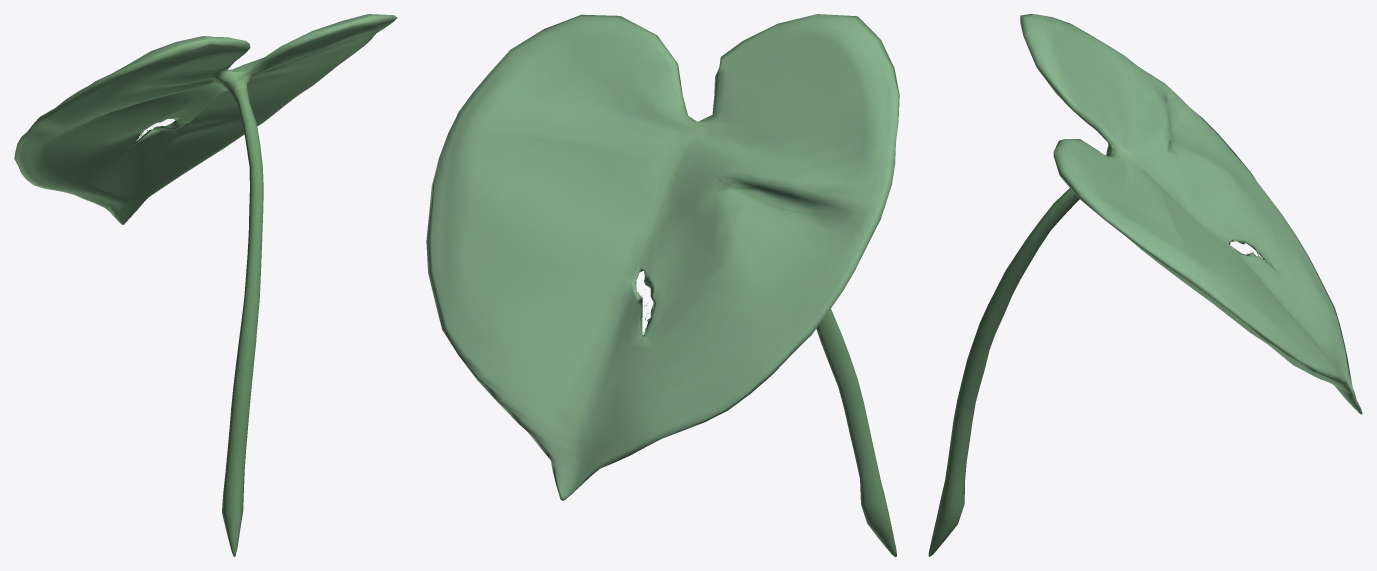
Rendered from test_albo_A_mid1.glb.
3 views of the same model, side by side, from view 1: azimuth 30°, elevation 25°; view 2: azimuth 150°, elevation 25°; view 3: azimuth 270°, elevation 25° (orthographic). The views are drawn at different scales.
Size of the model in its own units: 1.51 by 2 by 1.47.
1 material, 1 textured.
